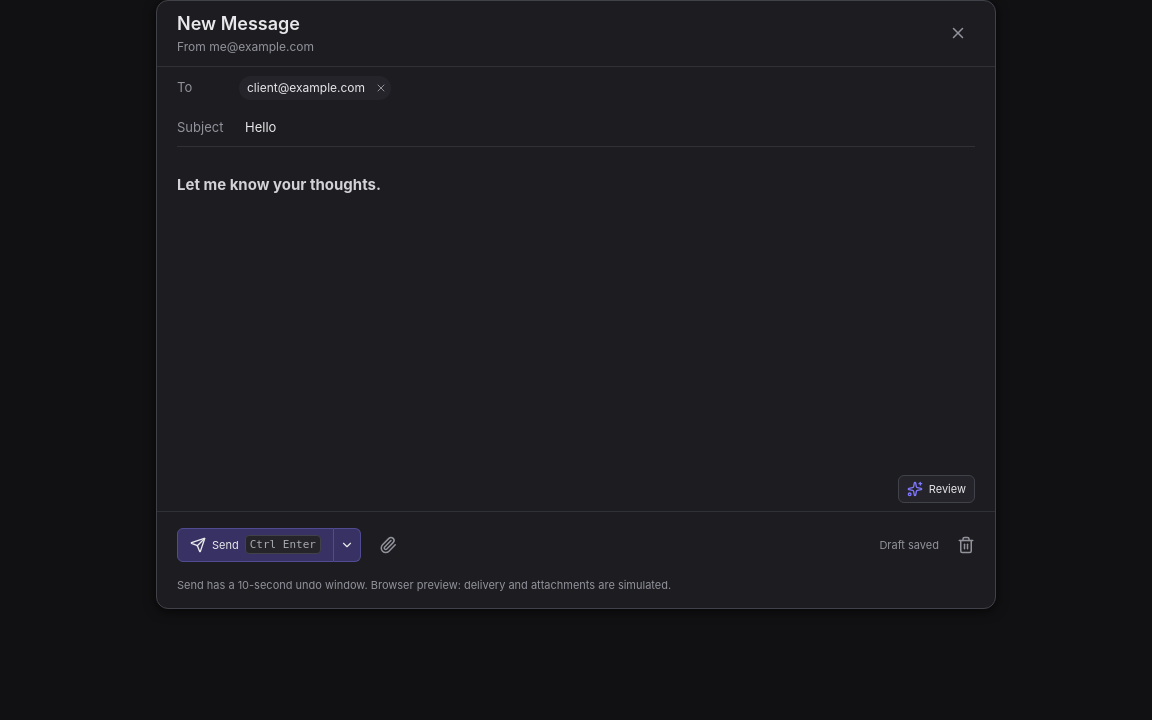
Test: Draft review in the composer › opens below the message body from Review in the writing tools, and closes again
Expected: the icon with class "lucide-sparkles" is shown, [907,481,923,497]
Expected: the element "Draft Review" is not shown
Click the button "Review".
click(936, 489)  # box [898,475,975,503]
(page scrolled)
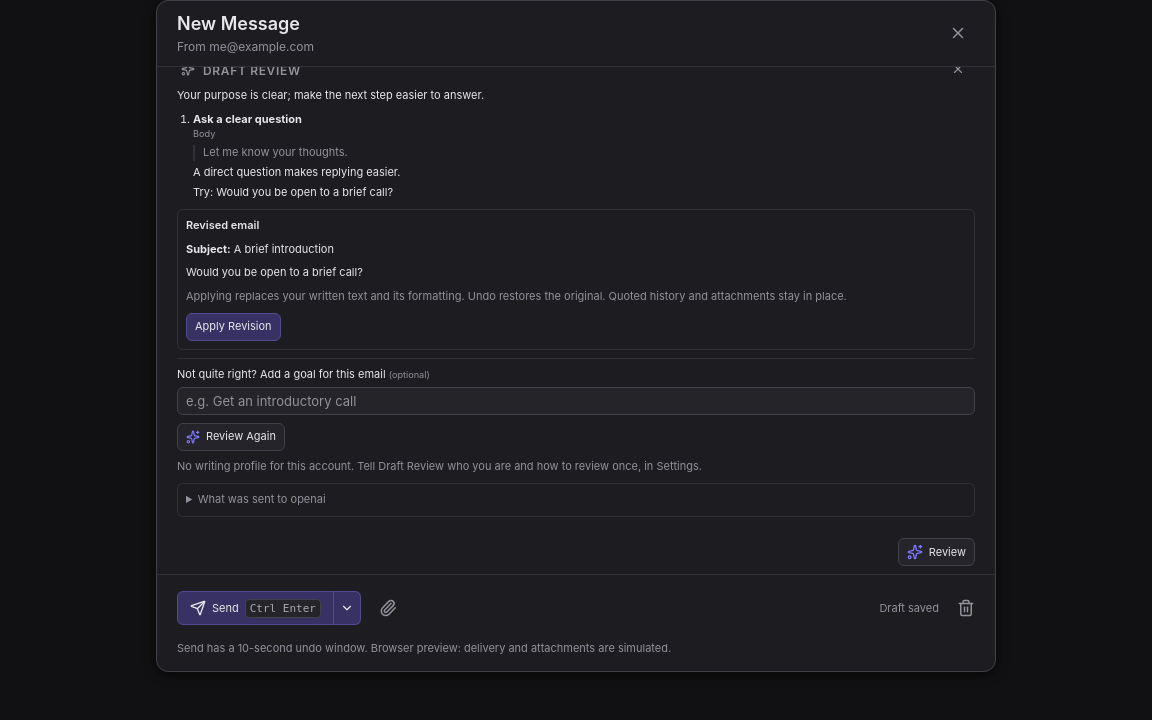
Expected: the 1st icon with class "lucide-sparkles" is shown, [181,67,195,76]
Expected: the button "Review" is expanded, [898,538,975,566]
Expected: the text "Your purpose is clear; make the next step easier to answer." is shown, [177,88,484,102]
A goal typed for this draft is still there after closing and reopening.
Type "Book a call" into the field labelled "Not quite right? Add a goal for this email (optional)".
click(576, 401); type("Book a call")  # box [177,387,975,415]
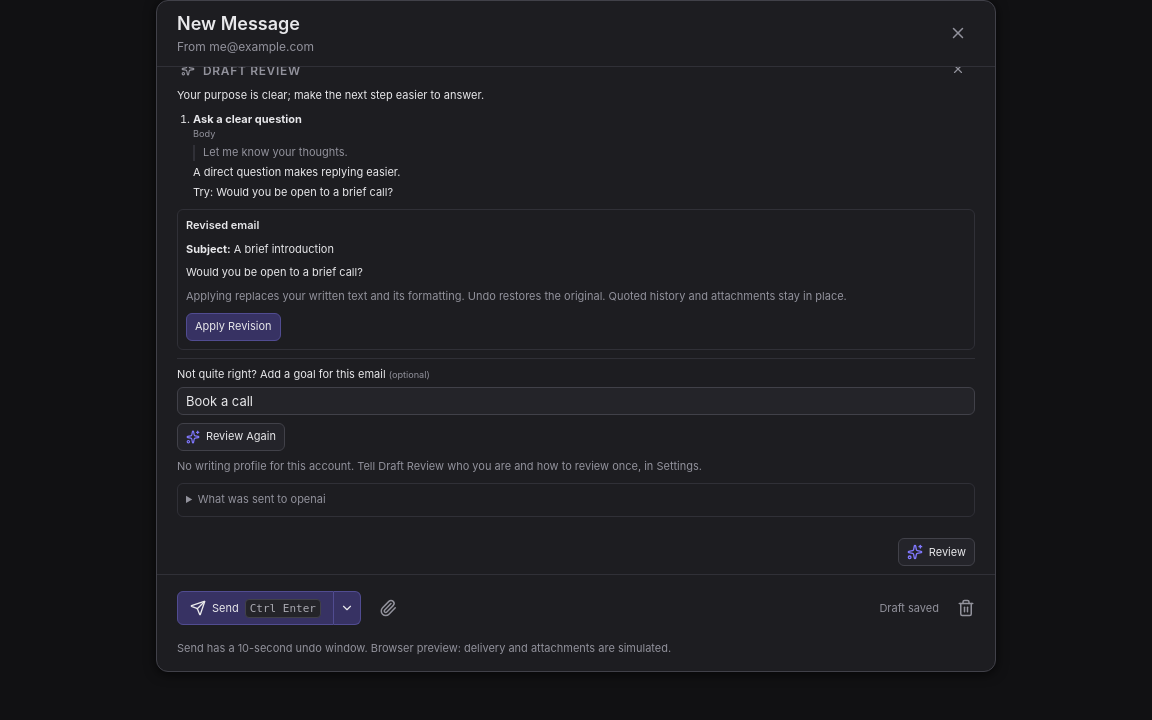
Click the button named "Close Draft Review".
click(958, 69)  # box [945,56,971,82]
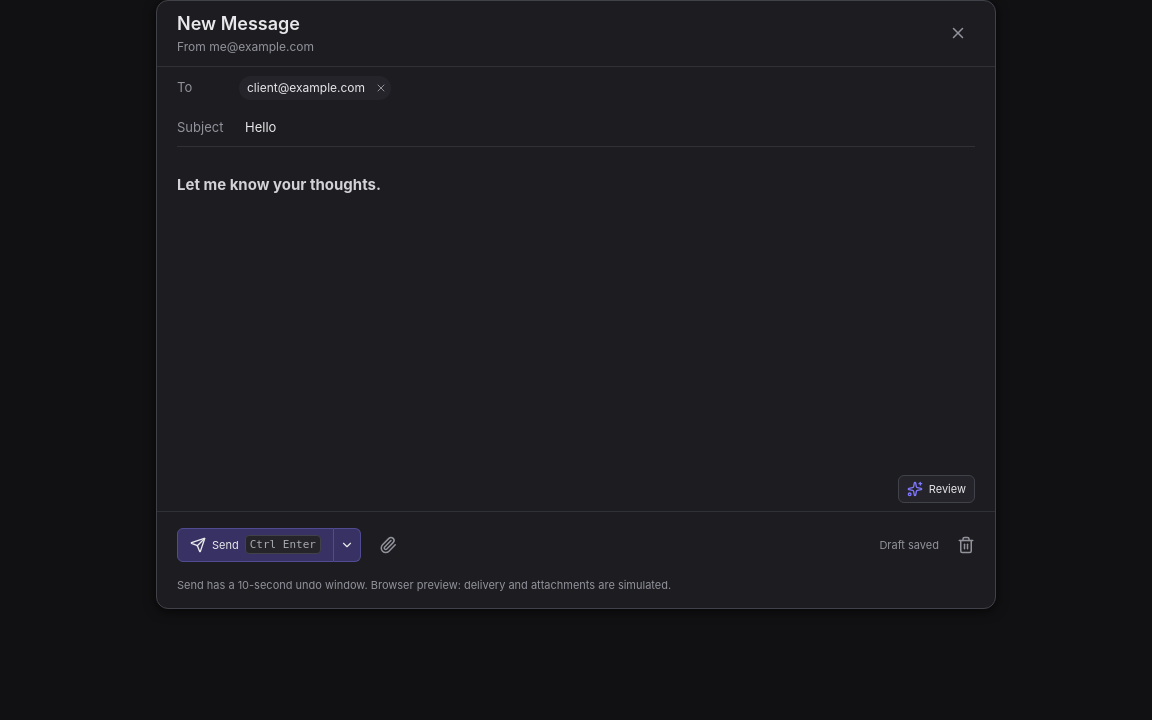
Click the button "Review".
click(936, 489)  # box [898,475,975,503]
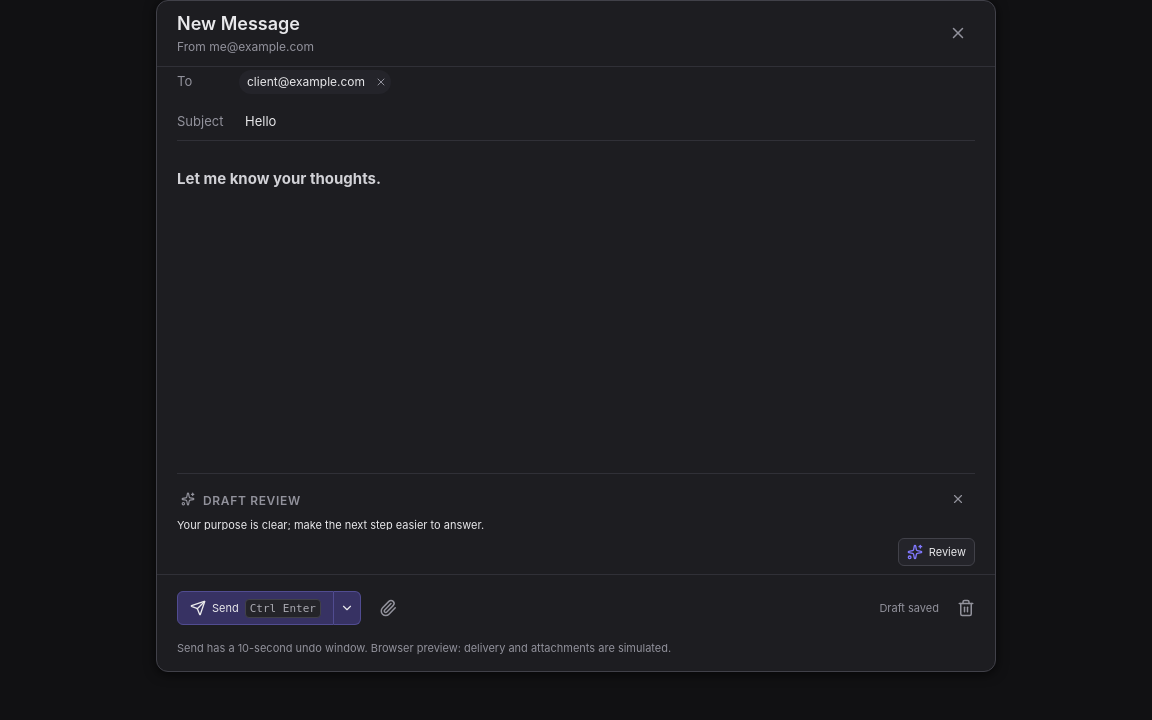
Click the button named "Close Draft Review".
click(958, 499)  # box [945,486,971,512]
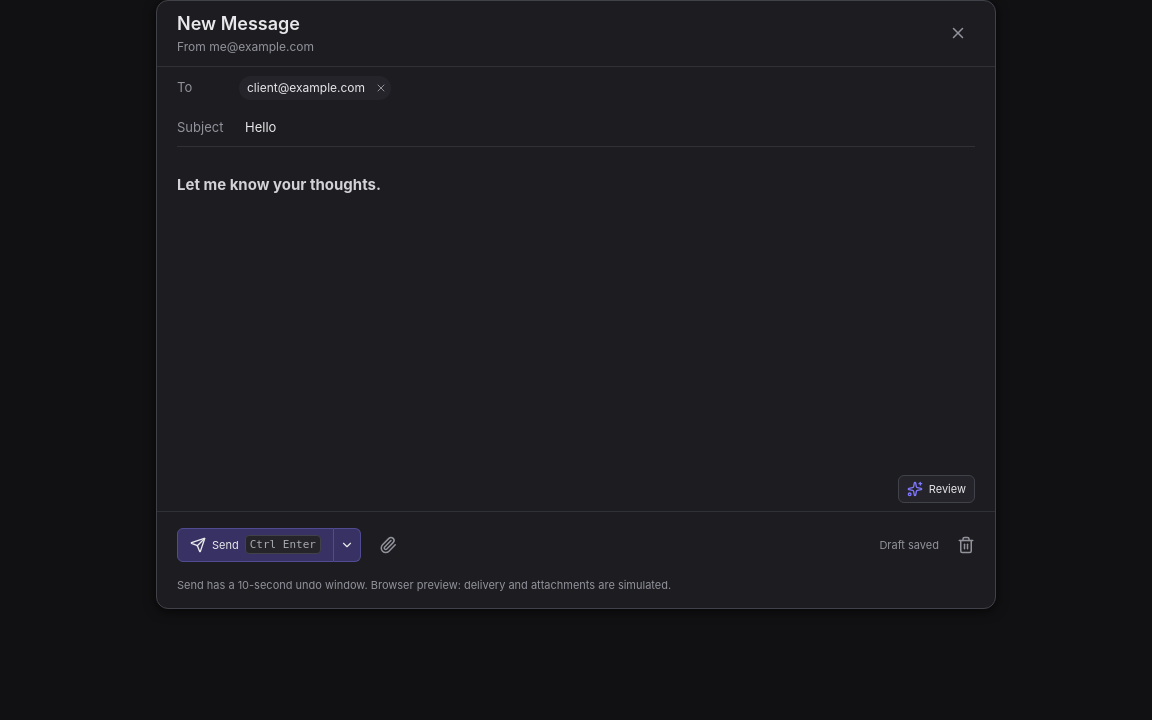
Expected: the text "Draft Review" is gone
Expected: the button "Review" is collapsed, [898,475,975,503]
